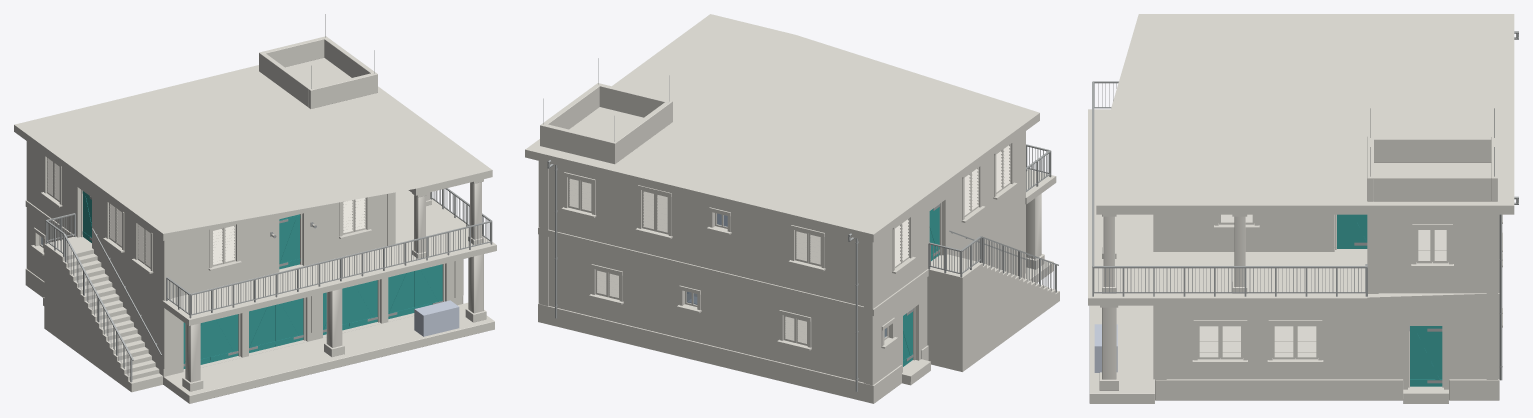
Rendered from souffleur_h06.glb.
3 renders of one model, left to right at view 1: azimuth 30°, elevation 25°; view 2: azimuth 150°, elevation 25°; view 3: azimuth 270°, elevation 25°, orthographic. The views are drawn at different scales.
Parts seen in each view (by area): view 1: Roof_Slab, Walls_Exterior, Stair_West, Slab_Floor1, Platform_Front, steel_painted_worn, render_spalled_old, Parapet_Block, shutter_paint, Columns_Arcade, limewash, Columns_Loggia (+11 smaller); view 2: Roof_Slab, Walls_Exterior, Stair_West, Plinth_Sockel, render_spalled_old, shutter_paint, Parapet_Block, limewash, steel_painted_worn, Columns_Arcade, galvanized_steel, Slab_Floor1 (+2 smaller); view 3: Roof_Slab, Walls_Exterior, Slab_Floor1, render_spalled_old, Parapet_Block, Plinth_Sockel, shutter_paint, Platform_Front, steel_painted_worn, limewash, DoorLeaf_09_L_in, Columns_Loggia (+5 smaller).
Part boxes in pixels (<box>): Roof_Slab: <box>14,58,492,240</box>; Walls_Exterior: <box>27,142,462,376</box>; Stair_West: <box>44,236,162,392</box>; Slab_Floor1: <box>78,190,494,319</box>; Platform_Front: <box>163,302,494,403</box>; steel_painted_worn: <box>45,188,492,382</box>; render_spalled_old: <box>25,141,496,368</box>; Parapet_Block: <box>259,36,377,108</box>; shutter_paint: <box>47,157,444,356</box>; Columns_Arcade: <box>182,254,486,391</box>; limewash: <box>31,153,372,273</box>; Columns_Loggia: <box>412,179,483,258</box>; Roof_Slab: <box>525,14,1039,242</box>; Walls_Exterior: <box>548,132,1025,384</box>; Stair_West: <box>927,254,1059,371</box>; Plinth_Sockel: <box>538,303,928,403</box>; render_spalled_old: <box>538,131,1056,385</box>; shutter_paint: <box>568,144,1010,360</box>; Parapet_Block: <box>540,83,672,164</box>; limewash: <box>561,139,1017,350</box>; steel_painted_worn: <box>928,144,1058,292</box>; Columns_Arcade: <box>1026,193,1044,269</box>; galvanized_steel: <box>547,162,858,391</box>; Slab_Floor1: <box>931,170,1053,265</box>; Roof_Slab: <box>1096,14,1514,214</box>; Walls_Exterior: <box>1155,214,1486,389</box>; Slab_Floor1: <box>1089,110,1486,297</box>; render_spalled_old: <box>1088,109,1499,379</box>; Parapet_Block: <box>1367,136,1497,201</box>; Plinth_Sockel: <box>1155,379,1499,400</box>; shutter_paint: <box>1197,214,1448,387</box>; Platform_Front: <box>1089,305,1154,403</box>; steel_painted_worn: <box>1092,81,1367,296</box>; limewash: <box>1192,214,1502,363</box>; DoorLeaf_09_L_in: <box>1410,326,1442,386</box>; Columns_Loggia: <box>1102,214,1247,293</box>.
Size of the model in its own units: 15.05 by 8.5 by 13.19.
